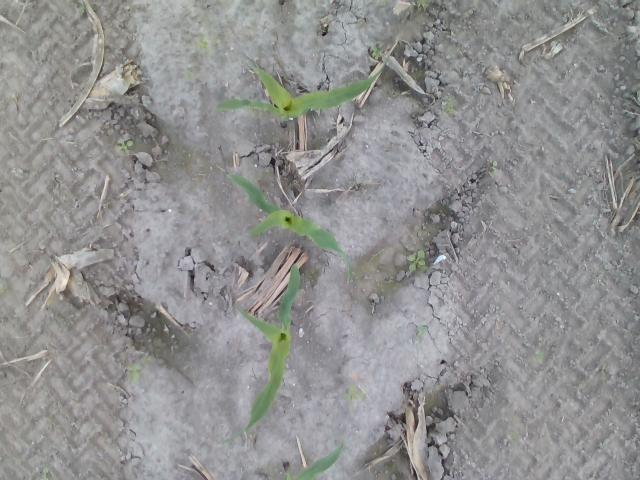Maize: (222, 263, 300, 444), (226, 172, 354, 282), (216, 60, 388, 128), (278, 442, 342, 480)
Weeds: (126, 356, 150, 386), (192, 34, 220, 56), (344, 385, 366, 412), (406, 249, 429, 273), (441, 95, 456, 120), (114, 138, 133, 154), (488, 157, 498, 177), (370, 45, 383, 59), (37, 467, 51, 480), (534, 350, 545, 364), (417, 324, 426, 341), (411, 0, 427, 8), (183, 70, 195, 79), (507, 432, 519, 440), (578, 379, 588, 388), (78, 5, 86, 14), (0, 284, 6, 292)
